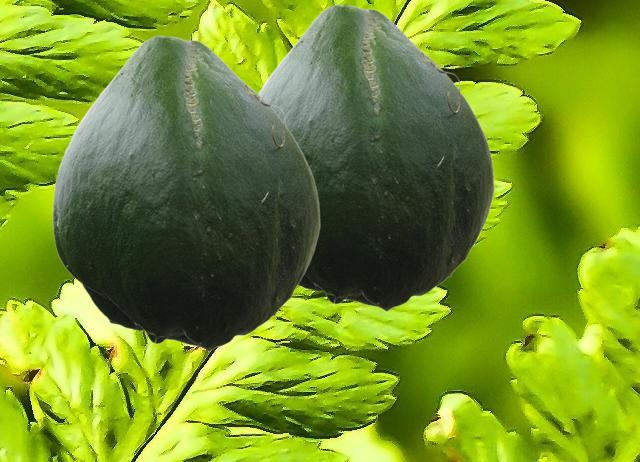sayote: (52, 35, 319, 351), (257, 4, 493, 311)
